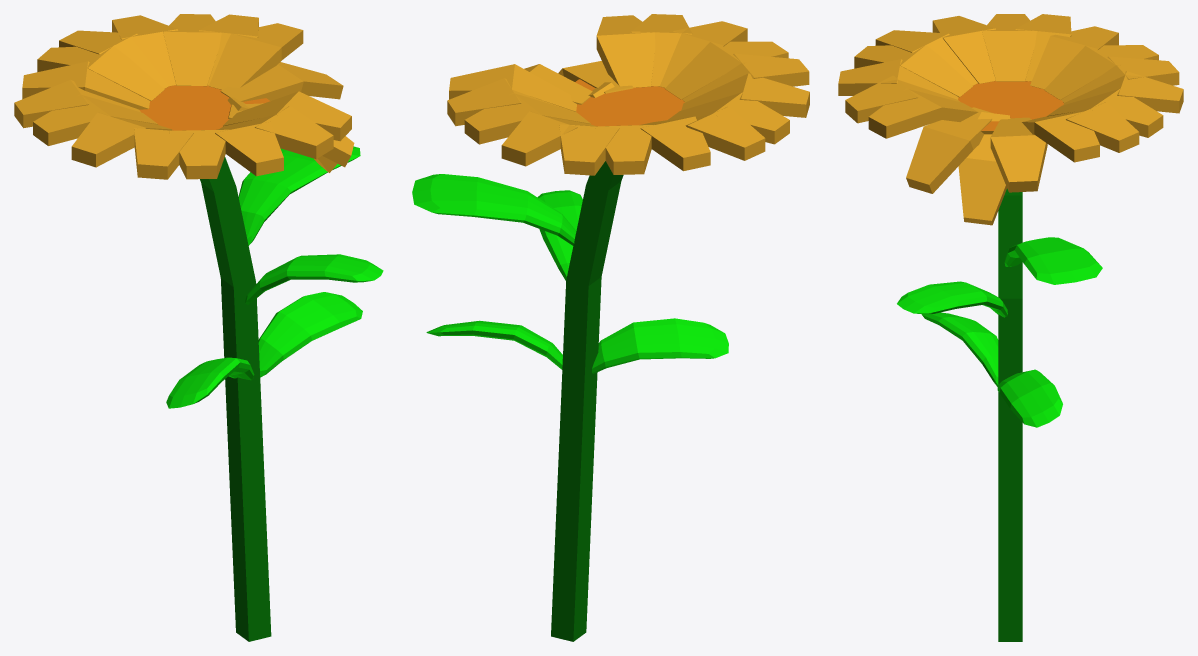
Rendered from SunFlower-1.fbx.
The picture shows the model from 3 angles, left to right: view 1: azimuth 30°, elevation 25°; view 2: azimuth 150°, elevation 25°; view 3: azimuth 270°, elevation 25°; orthographic projection. The views are drawn at different scales.
Visible parts, largest first — view 1: Cube.042; view 2: Cube.042; view 3: Cube.042.
Boxes of the visible parts, x1,y1,x2,y2 form: Cube.042: (14,14,383,641); Cube.042: (412,14,809,641); Cube.042: (838,14,1183,641).
Bounding box in the file's own units: 1541 × 1431 × 2439.
